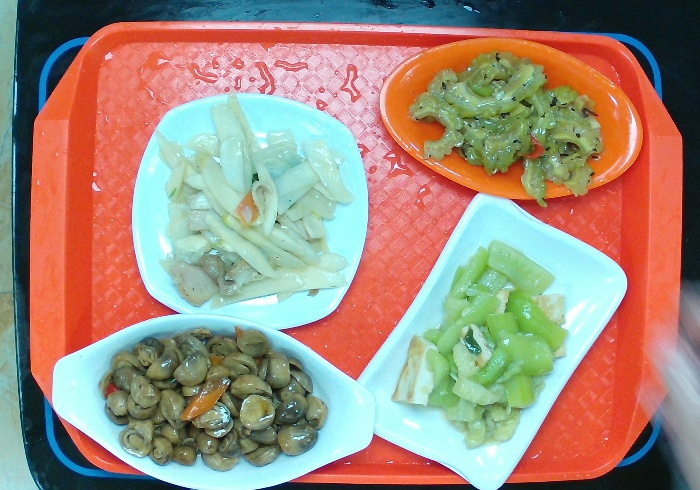RJxy-Ju_Huang_Tuo_Yuan: (376, 31, 646, 206)
RJxy-Si_Fang_Ao_Bian_Wan: (351, 185, 630, 490)
RJxy-Si_Fang_Die: (129, 87, 372, 331)
RJxy-Yu_Pan: (48, 311, 378, 486)
